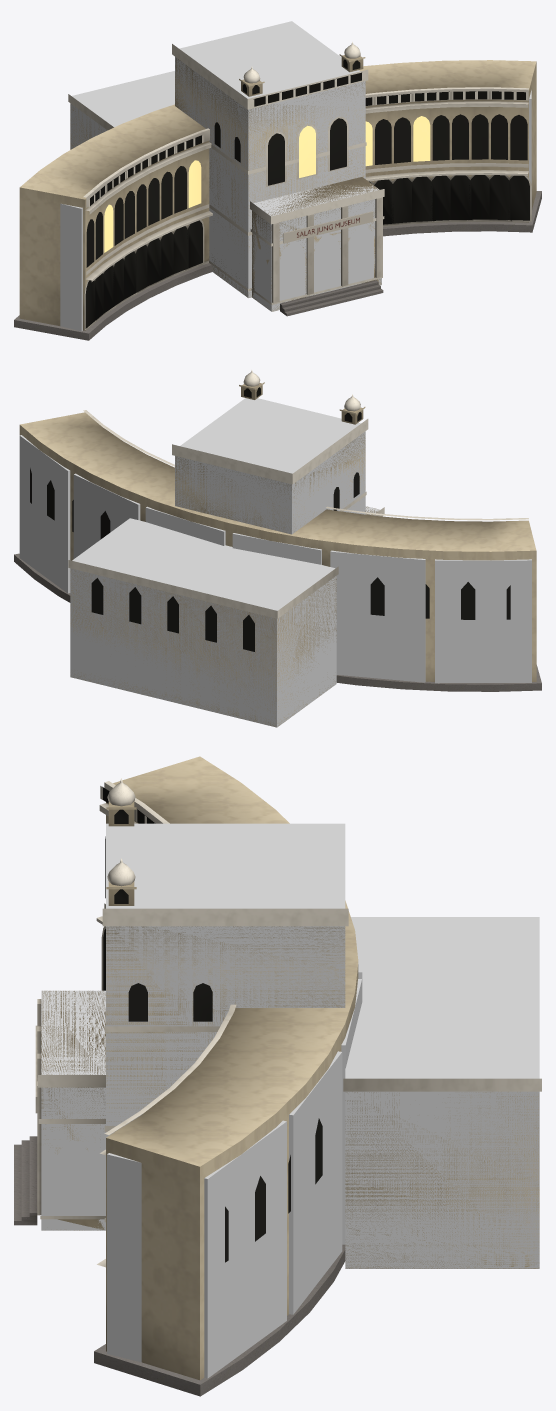
Rendered from salar_jung_museum.glb.
3 renders of one model, top to bottom at view 1: azimuth 30°, elevation 25°; view 2: azimuth 150°, elevation 25°; view 3: azimuth 270°, elevation 25°, orthographic. The views are drawn at different scales.
Visible parts, largest first — view 1: salar_jung_museum_body, COL_salar_jung_museum; view 2: COL_salar_jung_museum, salar_jung_museum_body; view 3: COL_salar_jung_museum, salar_jung_museum_body.
Part boxes in pixels (box(x1,y1,x2,y2)): salar_jung_museum_body: box(14, 42, 541, 340); COL_salar_jung_museum: box(60, 21, 531, 331); COL_salar_jung_museum: box(19, 398, 531, 727); salar_jung_museum_body: box(14, 370, 541, 727); COL_salar_jung_museum: box(41, 823, 539, 1378); salar_jung_museum_body: box(14, 756, 541, 1396).
Size of the model in its own units: 153 by 62.9 by 81.55.
6 materials, 6 textured.
